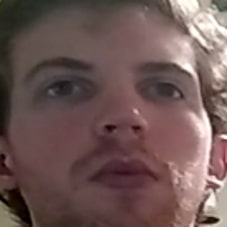awake: (22, 47, 203, 200)
